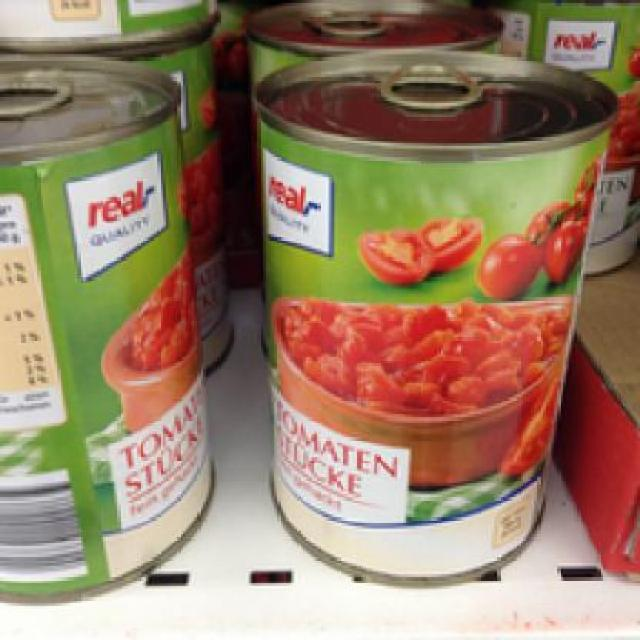Tomato Sauce: (252, 43, 618, 586), (0, 47, 215, 603)
